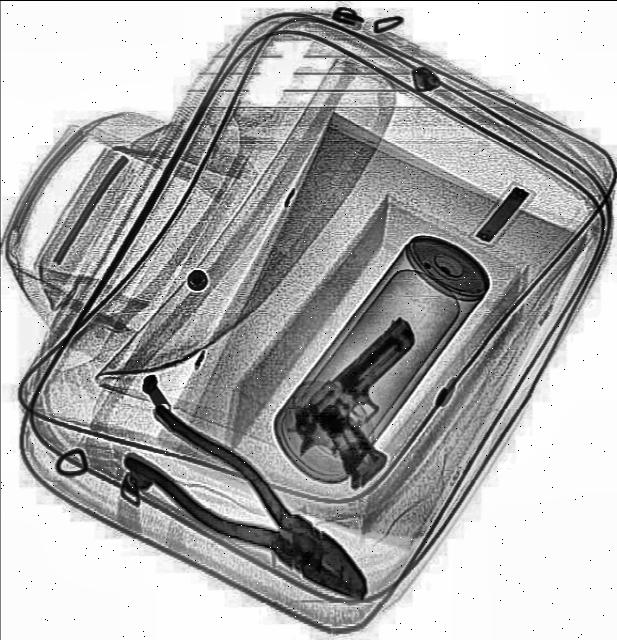Gun: (274, 316, 468, 508)
Pliers: (114, 399, 390, 633)
